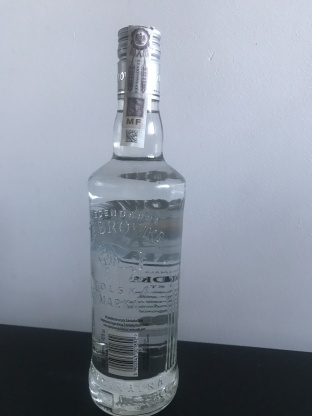nakretka: (114, 19, 163, 105)
